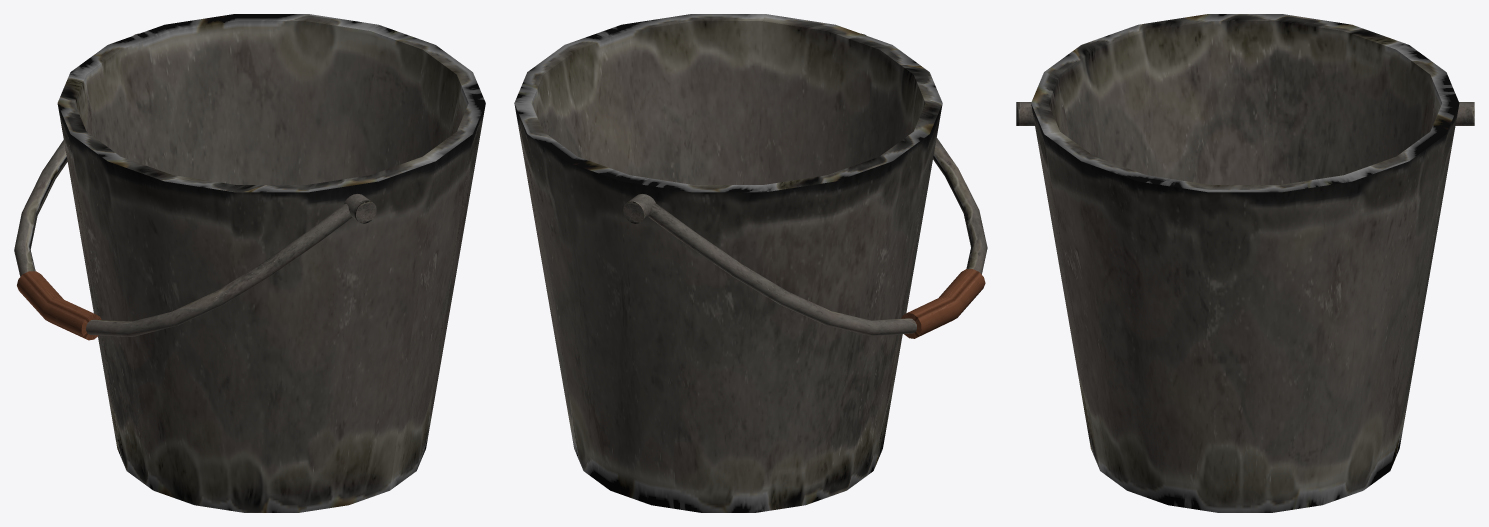
File: SM_Bucket.fbx
The picture shows the model from 3 angles, left to right: view 1: azimuth 30°, elevation 25°; view 2: azimuth 150°, elevation 25°; view 3: azimuth 270°, elevation 25°; orthographic projection.
Parts seen in each view (by area): view 1: SM_Bucket_LOD0; view 2: SM_Bucket_LOD0; view 3: SM_Bucket_LOD0.
Part boxes in pixels (<box>): SM_Bucket_LOD0: <box>14,14,485,512</box>; SM_Bucket_LOD0: <box>514,14,987,512</box>; SM_Bucket_LOD0: <box>1016,14,1474,512</box>.
Size of the model in its own units: 182 by 175 by 145.
1 material, 1 textured.
